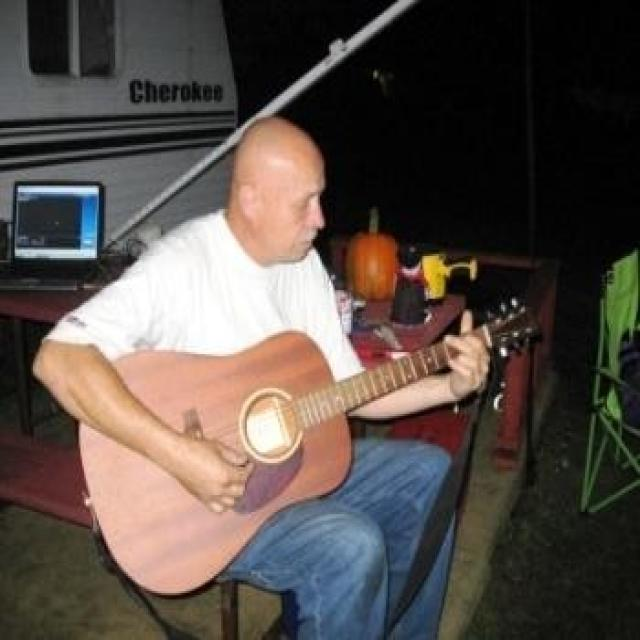guitar: (76, 297, 538, 594)
